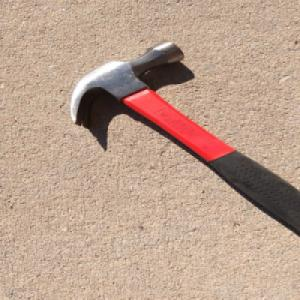Hammer: (65, 39, 300, 239)
